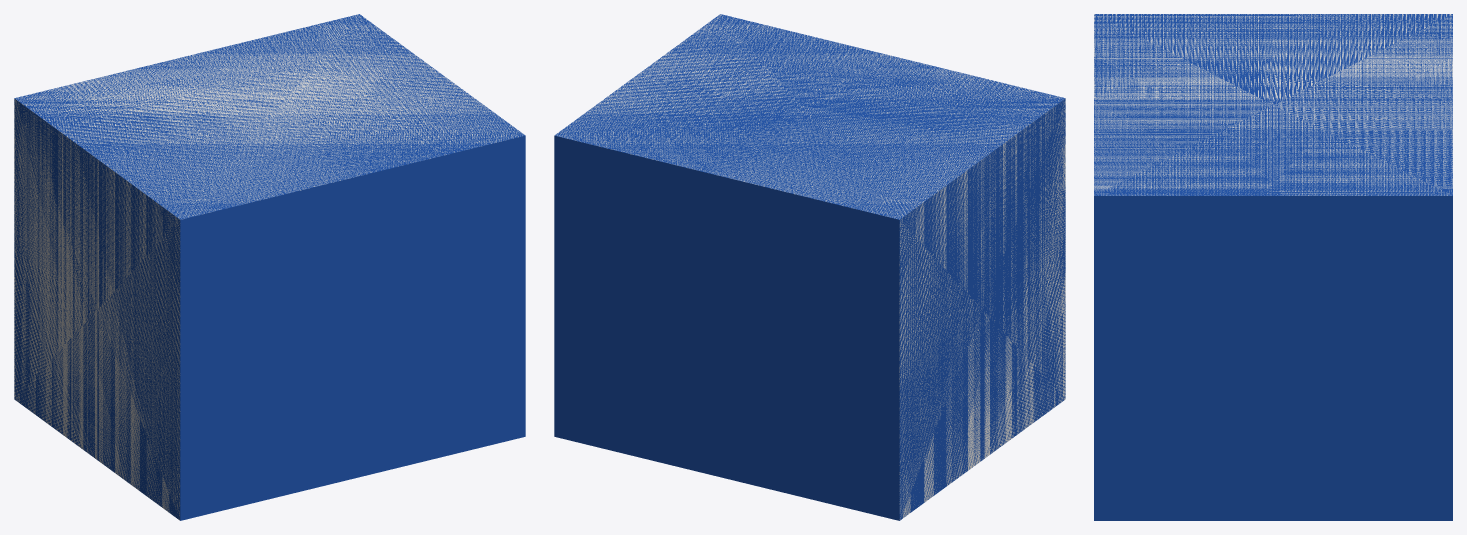
The model's file is processed_glb.glb.
The picture shows the model from 3 angles, left to right: view 1: azimuth 30°, elevation 25°; view 2: azimuth 150°, elevation 25°; view 3: azimuth 270°, elevation 25°; orthographic projection. The views are drawn at different scales.
Visible parts, largest first — view 1: SM_prop_acceptance_crate_01_LOD0, COL_prop_acceptance_crate_01; view 2: SM_prop_acceptance_crate_01_LOD0, COL_prop_acceptance_crate_01; view 3: SM_prop_acceptance_crate_01_LOD0, COL_prop_acceptance_crate_01.
Boxes of the visible parts, x1,y1,x2,y2 form: SM_prop_acceptance_crate_01_LOD0: (14,14,525,520); COL_prop_acceptance_crate_01: (14,14,523,519); SM_prop_acceptance_crate_01_LOD0: (554,14,1065,520); COL_prop_acceptance_crate_01: (555,14,1065,519); SM_prop_acceptance_crate_01_LOD0: (1094,14,1452,520); COL_prop_acceptance_crate_01: (1094,14,1452,195).
Size of what is drawn, in the model's own units: 1.2 by 1 by 1.
Materials: 1 (1 with a texture image).
